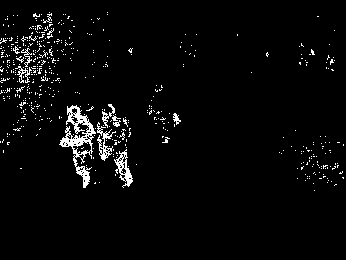person: (97, 103, 133, 187), (60, 105, 95, 187), (147, 84, 182, 145)
